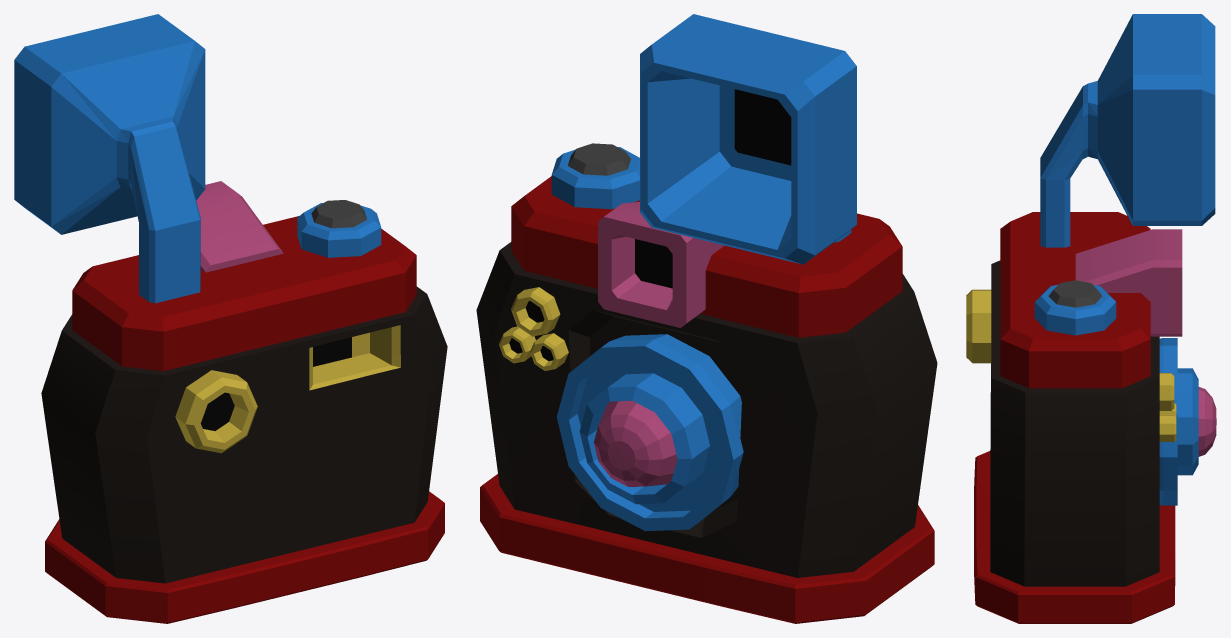
The model's file is Camera-2.FBX.
3 renders of one model, left to right at view 1: azimuth 30°, elevation 25°; view 2: azimuth 150°, elevation 25°; view 3: azimuth 270°, elevation 25°, orthographic. The views are drawn at different scales.
Parts seen in each view (by area): view 1: Camera-2; view 2: Camera-2; view 3: Camera-2.
Boxes of the visible parts, x1=… form: Camera-2: x1=14, y1=14, x2=447, y2=623; Camera-2: x1=476, y1=14, x2=937, y2=623; Camera-2: x1=966, y1=14, x2=1216, y2=623.
Bounding box in the file's own units: 988 × 648 × 1326.
